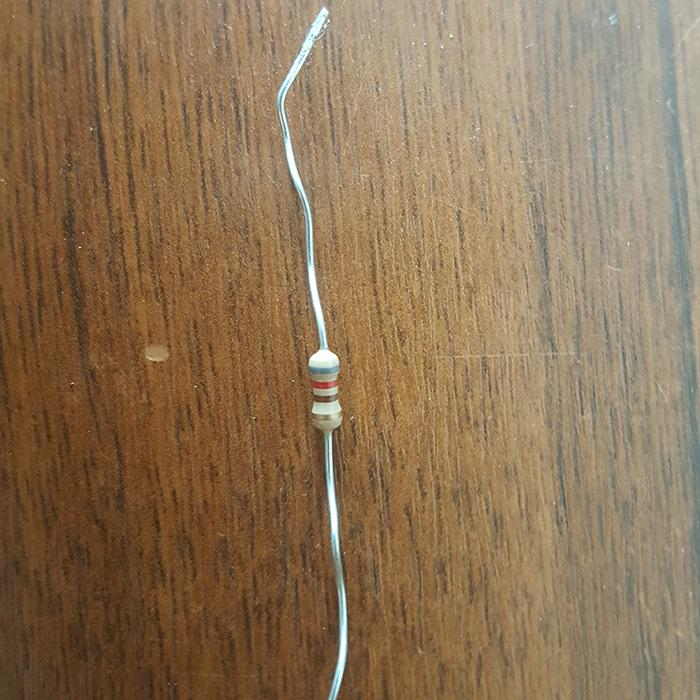resistor: (306, 347, 343, 432)
